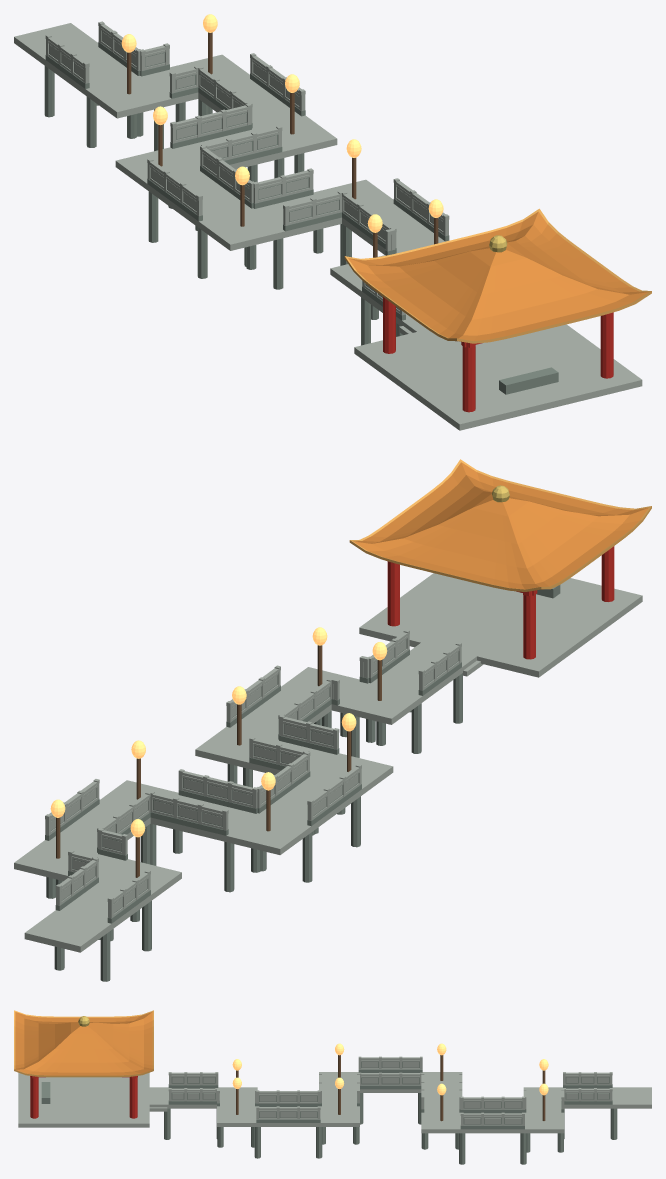
Rendered from bridge.glb.
3 renders of one model, top to bottom at view 1: azimuth 30°, elevation 25°; view 2: azimuth 150°, elevation 25°; view 3: azimuth 270°, elevation 25°, orthographic. The views are drawn at different scales.
Parts seen in each view (by area): view 1: BridgeDeck-col, BridgeDeco, BridgeRails-col; view 2: BridgeDeck-col, BridgeDeco, BridgeRails-col; view 3: BridgeDeck-col, BridgeRails-col, BridgeDeco.
Boxes of the visible parts, x1,y1,x2,y2 form: BridgeDeck-col: (14, 23, 642, 430); BridgeDeco: (121, 14, 651, 347); BridgeRails-col: (45, 21, 449, 320); BridgeDeck-col: (14, 546, 642, 981); BridgeDeco: (50, 459, 651, 877); BridgeRails-col: (45, 629, 461, 923); BridgeDeck-col: (18, 1072, 651, 1164); BridgeRails-col: (168, 1056, 612, 1129); BridgeDeco: (14, 1010, 548, 1121).
Bounding box in the file's own units: 10.2 × 8.7 × 43.7.
